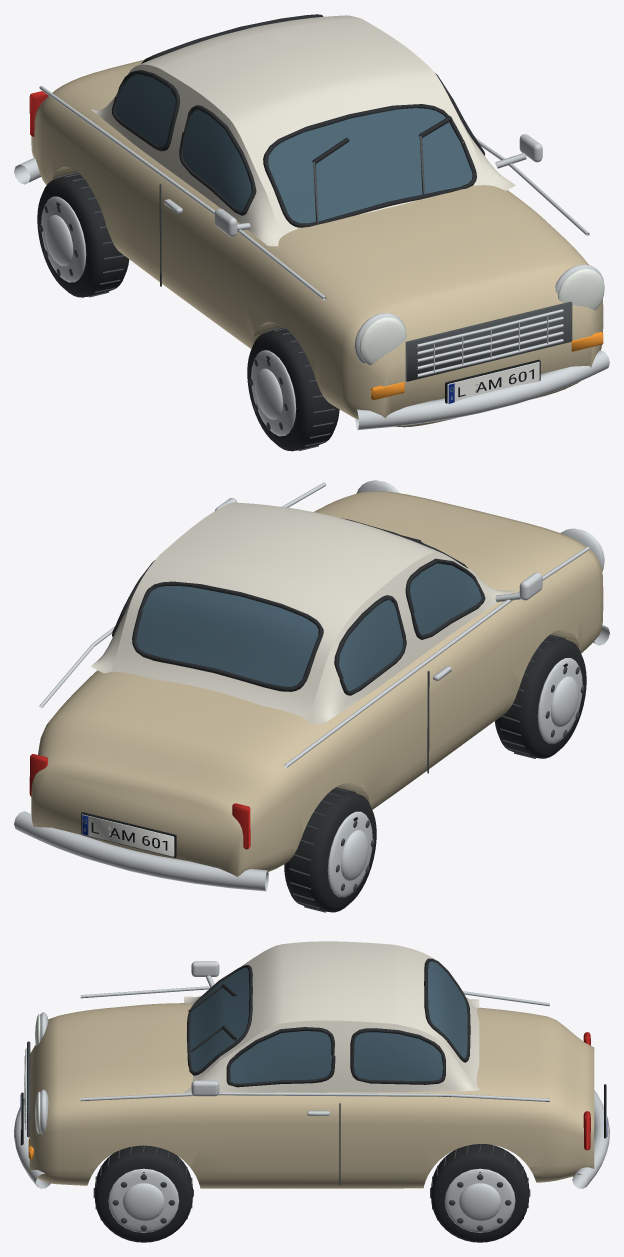
The model's file is trabant.glb.
The picture shows the model from 3 angles, top to bottom: view 1: azimuth 30°, elevation 25°; view 2: azimuth 150°, elevation 25°; view 3: azimuth 270°, elevation 25°; orthographic projection. The views are drawn at different scales.
Visible parts, largest first — view 1: trabant_mesh, trabant__Wheel_RL_mesh, trabant__Wheel_FL_mesh; view 2: trabant_mesh, trabant__Wheel_RL_mesh, trabant__Wheel_FL_mesh; view 3: trabant_mesh, trabant__Wheel_RR_mesh, trabant__Wheel_FR_mesh.
Boxes of the visible parts, bbox=[...] form: trabant_mesh: bbox=[14, 14, 609, 429]; trabant__Wheel_RL_mesh: bbox=[37, 172, 129, 297]; trabant__Wheel_FL_mesh: bbox=[247, 327, 339, 451]; trabant_mesh: bbox=[14, 480, 609, 891]; trabant__Wheel_RL_mesh: bbox=[284, 787, 376, 912]; trabant__Wheel_FL_mesh: bbox=[494, 634, 586, 758]; trabant_mesh: bbox=[14, 941, 609, 1188]; trabant__Wheel_RR_mesh: bbox=[430, 1144, 530, 1242]; trabant__Wheel_FR_mesh: bbox=[93, 1145, 193, 1242].
Size of the model in its own units: 1.77 by 1.46 by 3.63.
